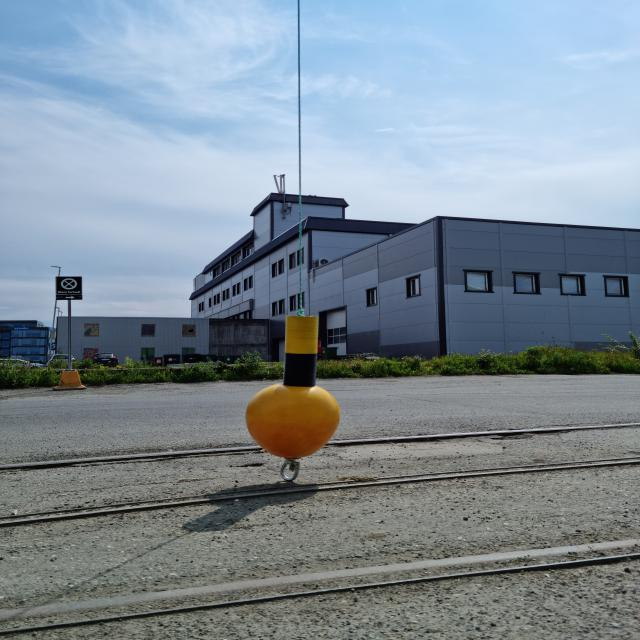west: (247, 316, 341, 458)
